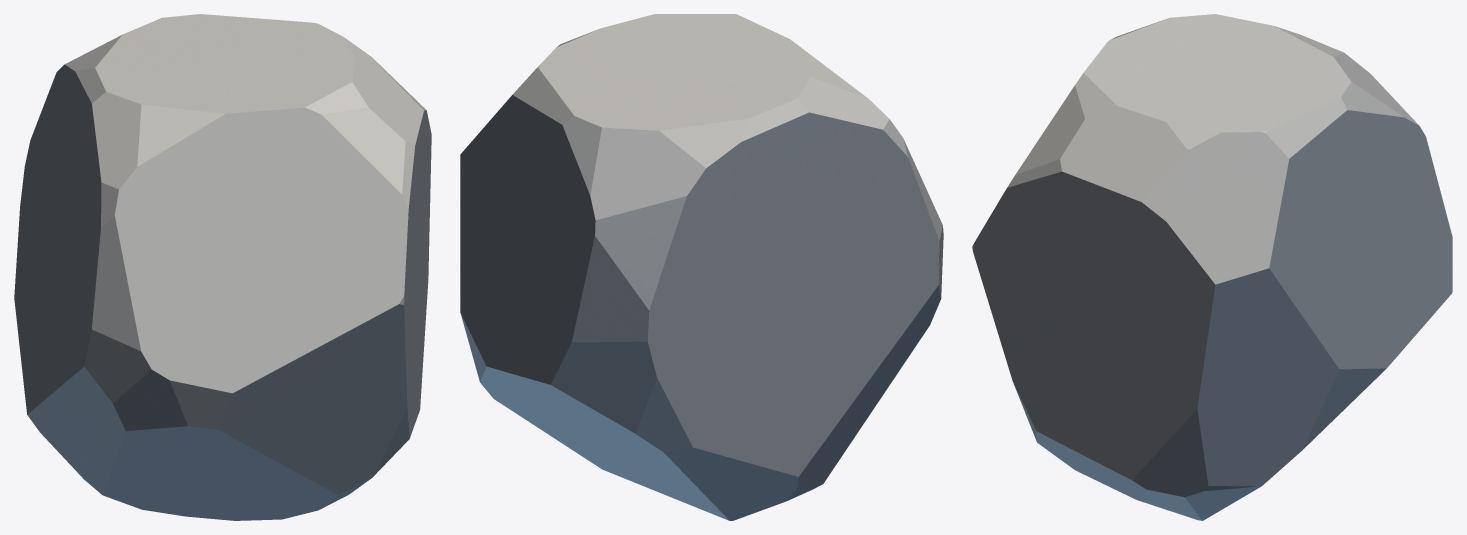
3 views of the same model, side by side, from view 1: azimuth 30°, elevation 25°; view 2: azimuth 150°, elevation 25°; view 3: azimuth 270°, elevation 25° (orthographic). The views are drawn at different scales.
Visible parts, largest first — view 1: boulder; view 2: boulder; view 3: boulder.
Boxes of the visible parts, left/top/right/bottom form: boulder: left=14, top=14, right=431, bottom=520; boulder: left=460, top=14, right=943, bottom=520; boulder: left=972, top=14, right=1452, bottom=520.
Size of the model in its own units: 1.32 by 1.34 by 1.4.
1 material, 1 textured.
